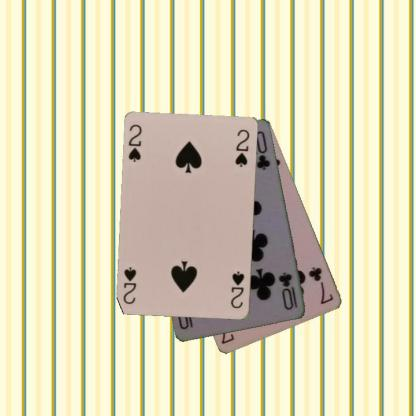10c: (276, 270, 299, 312)
2s: (228, 269, 246, 310), (126, 122, 143, 163)
7c: (306, 264, 335, 306)
